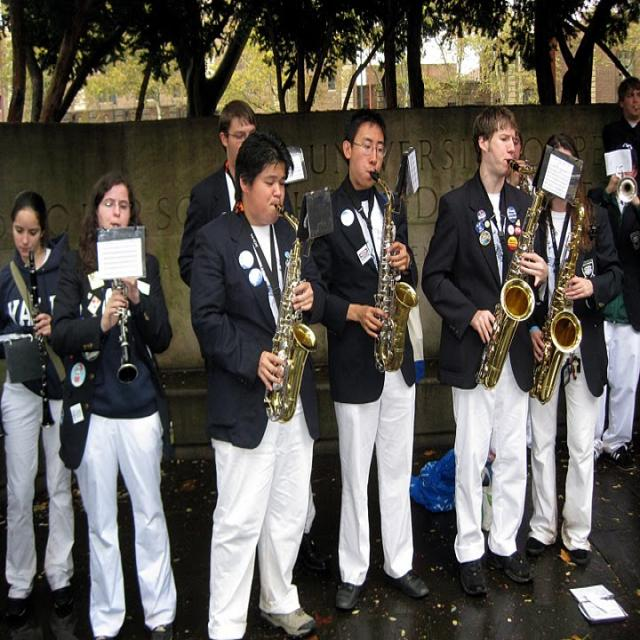clarinet: (27, 252, 57, 432), (114, 278, 139, 384)
saxophone: (472, 156, 545, 393), (530, 194, 594, 405), (364, 170, 423, 378), (267, 202, 320, 427)
